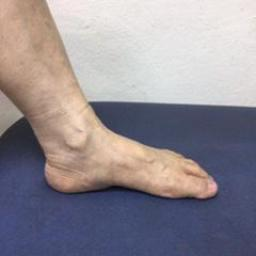Medial View -Left Foot-: (16, 110, 221, 215)
